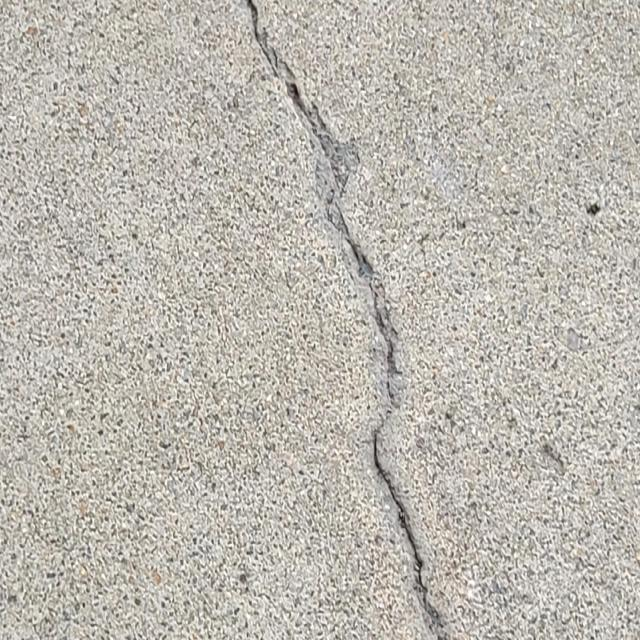SurfaceCrack: (210, 0, 474, 640)
